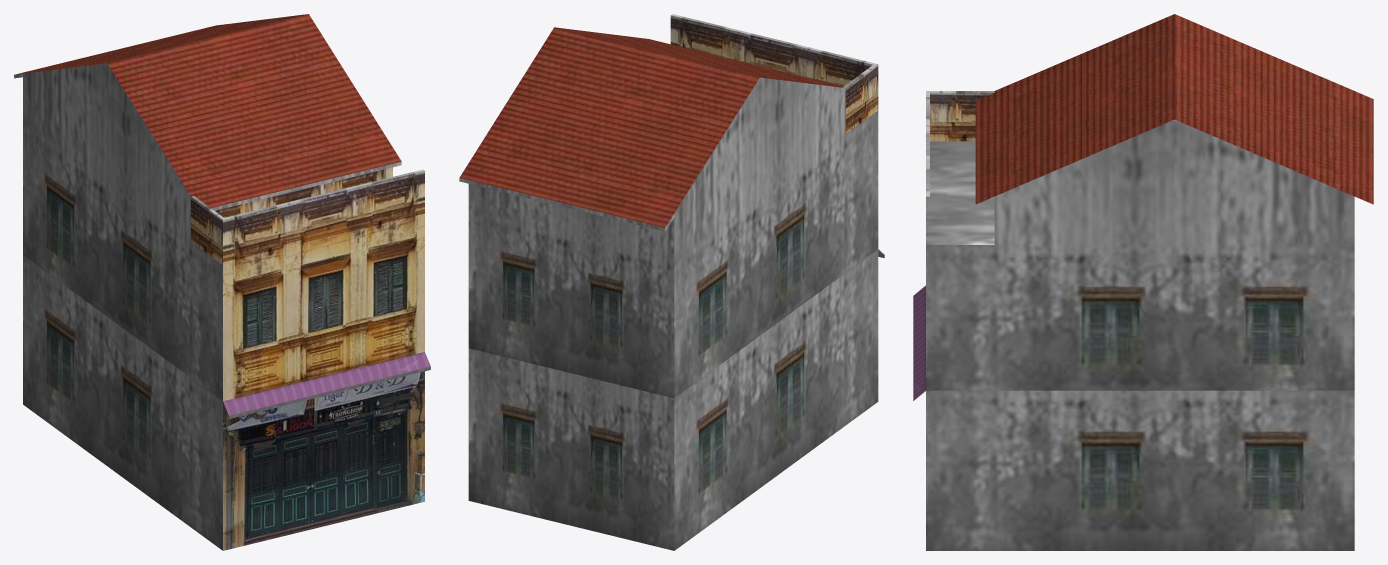
3 views of the same model, side by side, from view 1: azimuth 30°, elevation 25°; view 2: azimuth 150°, elevation 25°; view 3: azimuth 270°, elevation 25° (orthographic). The views are drawn at different scales.
Visible parts, largest first — view 1: HN988_B_B; view 2: HN988_B_B; view 3: HN988_B_B.
Part boxes in pixels (x1,y1,x2,y2): HN988_B_B: [14, 14, 430, 550]; HN988_B_B: [459, 14, 884, 550]; HN988_B_B: [913, 14, 1373, 550].
Size of the model in its own units: 4.66 by 8.89 by 8.6.
Materials: 1 (1 with a texture image).
